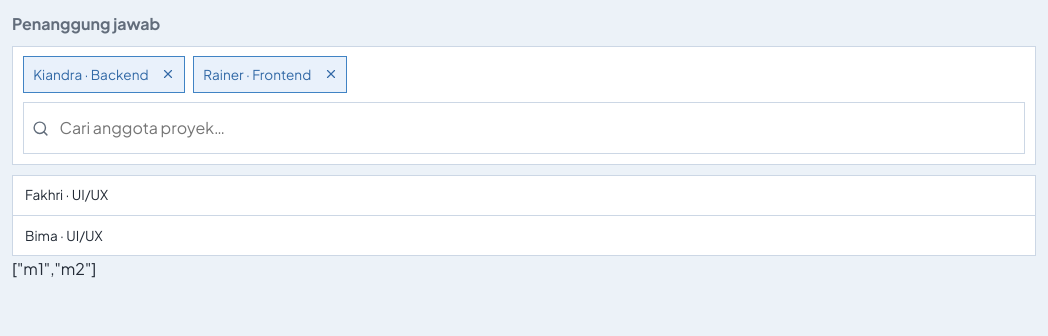
Scenario: AssigneePicker multi-select chips › removes only the clicked member via its X button and re-exposes it as an option
Expected: the number of elements with class "assignee-chip" is 2, [23,56,185,93]; [193,56,347,93]
Click the button named "Hapus Kiandra" at (165, 74), box [155,65,174,84]
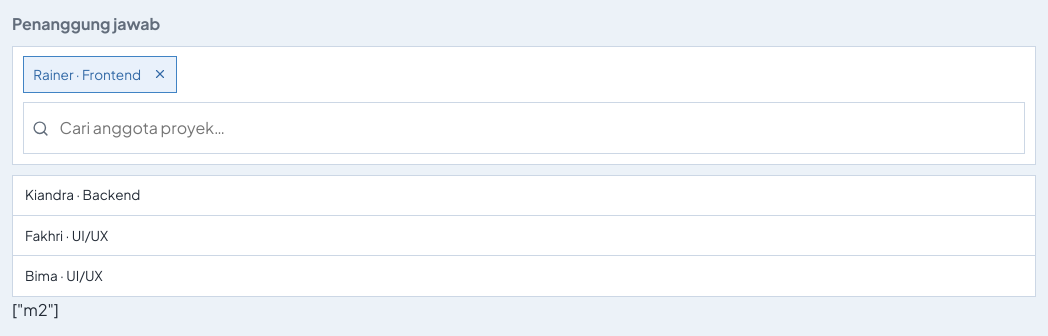
Expected: the button "Kiandra · Backend" is shown, [13,176,1035,215]
Now the number of elements with class "assignee-chip" is 1, box [23,56,177,93]
Now the text with test id "selected" reads "[\"m2\"]", box [12,298,59,320]
